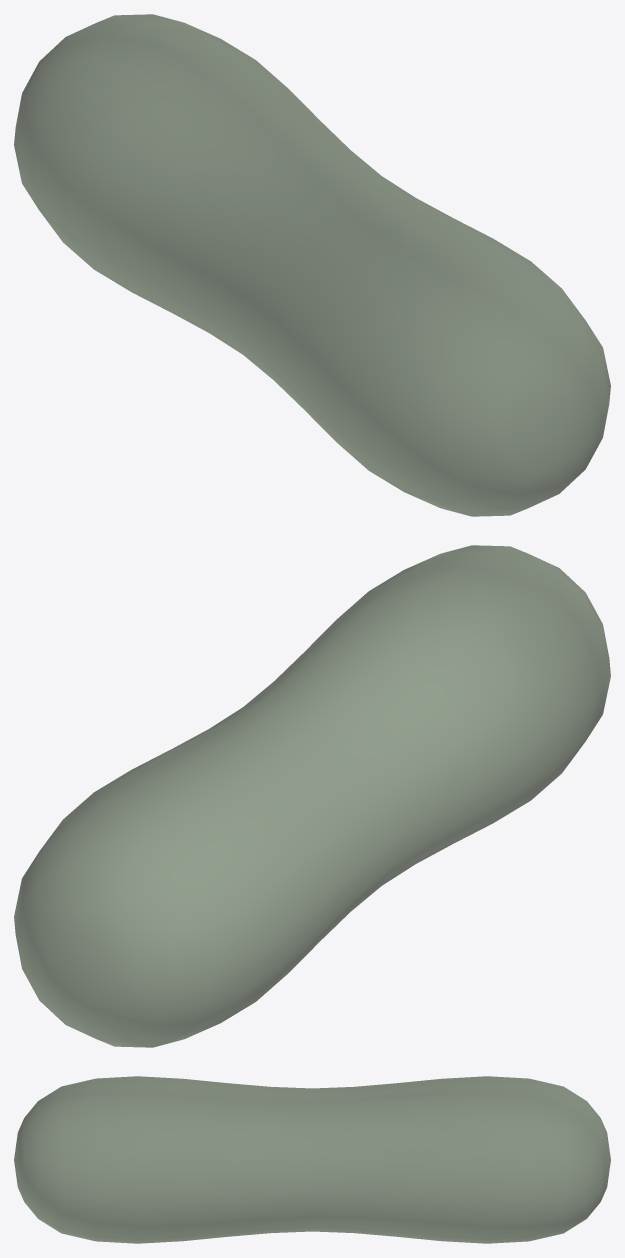
The model's file is microscopic-cells-dividing-cell_v2.glb.
The picture shows the model from 3 angles, top to bottom: view 1: azimuth 30°, elevation 25°; view 2: azimuth 150°, elevation 25°; view 3: azimuth 270°, elevation 25°; orthographic projection. The views are drawn at different scales.
Visible parts, largest first — view 1: Dividing Cell_v2; view 2: Dividing Cell_v2; view 3: Dividing Cell_v2.
Part boxes in pixels (box(x1,y1,x2,y2)): Dividing Cell_v2: box(14, 14, 610, 516); Dividing Cell_v2: box(14, 545, 610, 1047); Dividing Cell_v2: box(14, 1076, 610, 1243).
Bounding box in the file's own units: 0.2254 × 0.2254 × 0.8.
